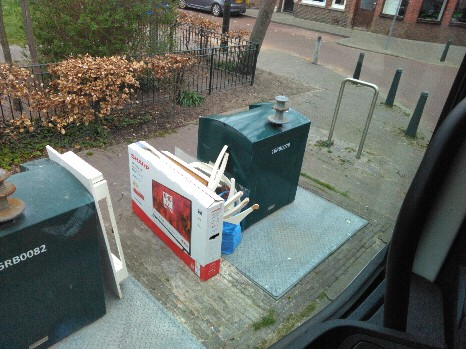Container: (3, 174, 98, 315), (210, 106, 310, 215)
Rest: (128, 142, 210, 260), (68, 155, 137, 259)
